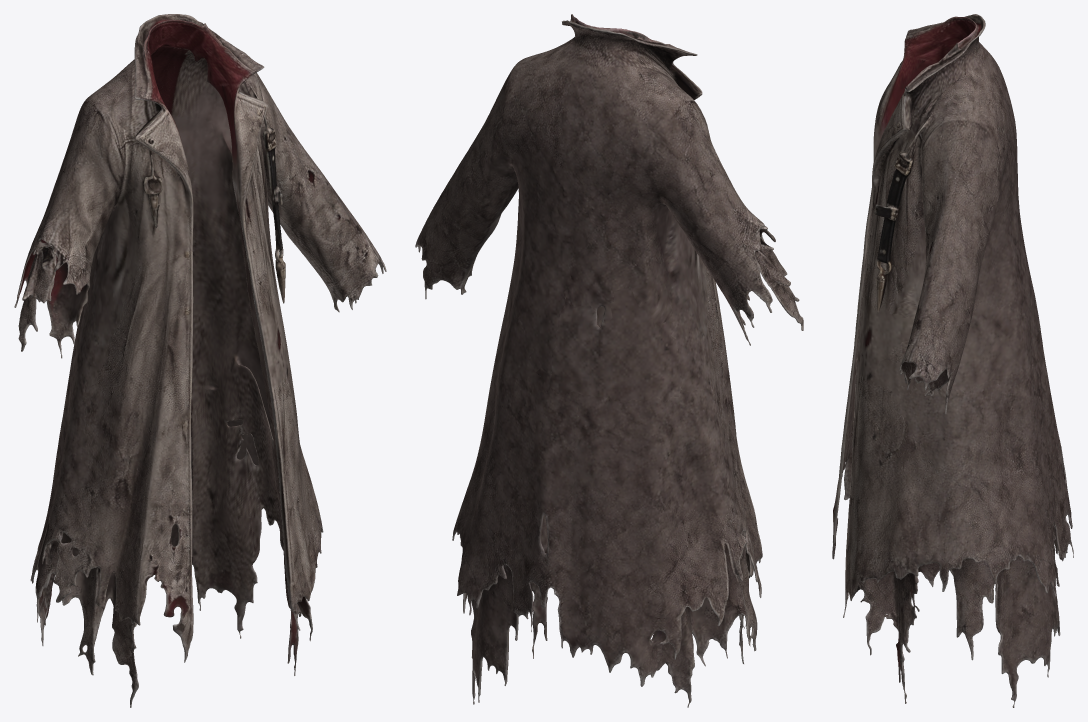
Rendered from Coat.fbx.
The picture shows the model from 3 angles, left to right: view 1: azimuth 30°, elevation 25°; view 2: azimuth 150°, elevation 25°; view 3: azimuth 270°, elevation 25°; orthographic projection. The views are drawn at different scales.
Visible parts, largest first — view 1: Mesh_0; view 2: Mesh_0; view 3: Mesh_0.
Part boxes in pixels (x1,y1,x2,y2): Mesh_0: (14, 14, 386, 707); Mesh_0: (415, 14, 803, 707); Mesh_0: (832, 14, 1073, 707).
Size of the model in its own units: 110 by 190 by 64.9.
1 material, 1 textured.
